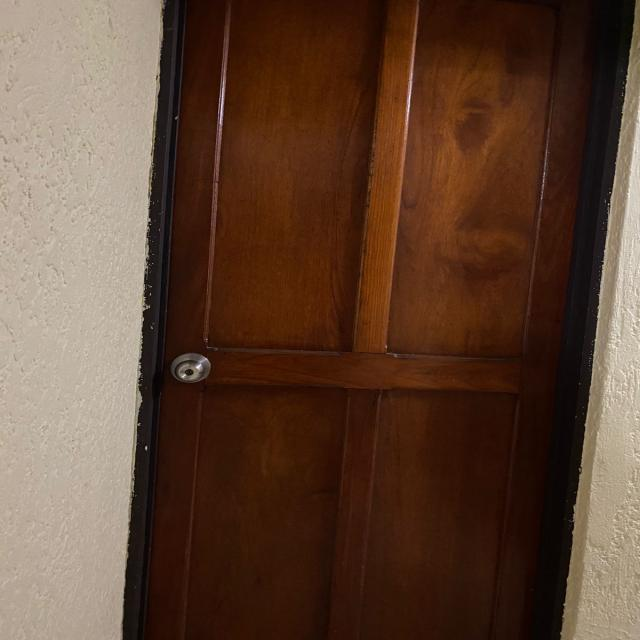ClosedDoor: (125, 0, 640, 638)
